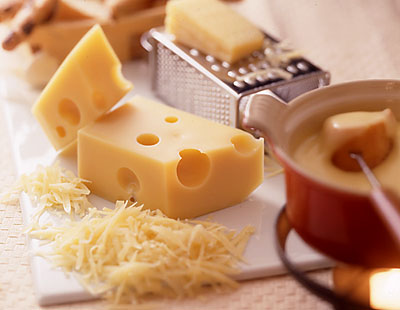cheese: (62, 93, 258, 212), (51, 204, 249, 297), (159, 6, 271, 65)
